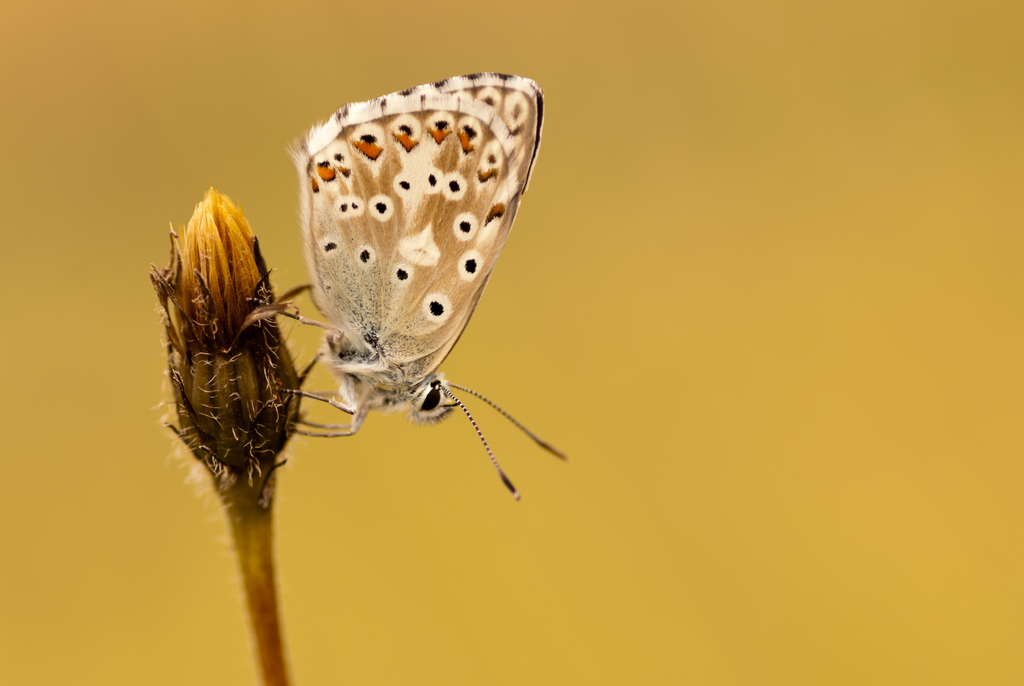Butterfly: (268, 48, 556, 459)
